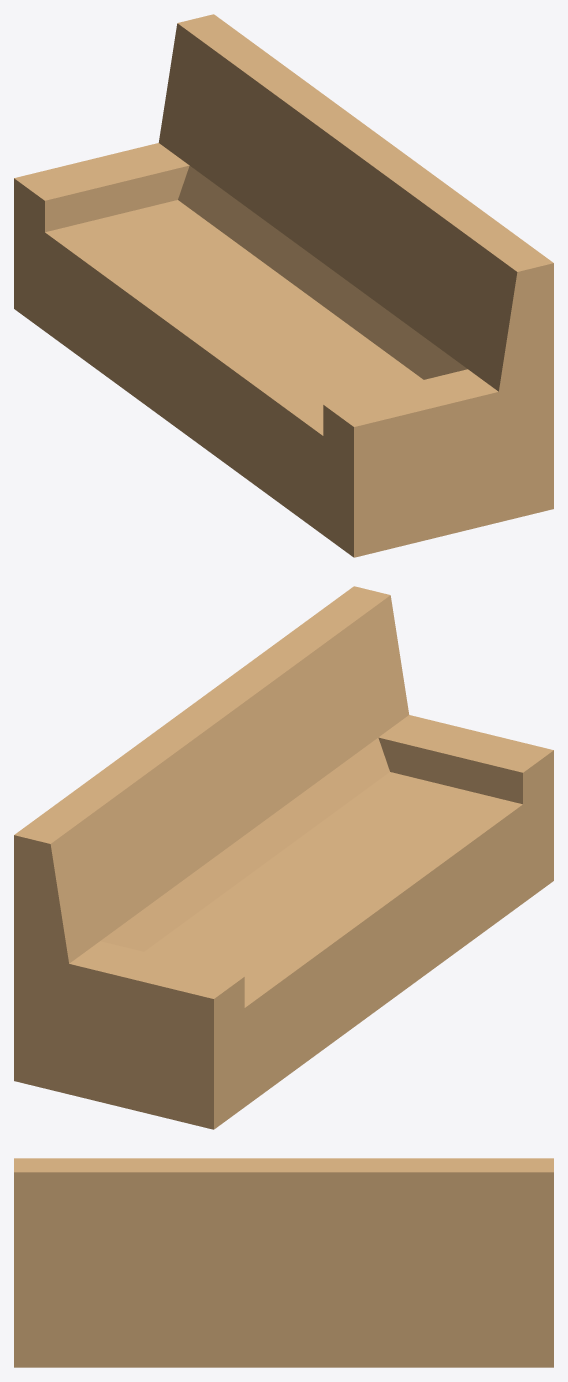
The model's file is couch_01_mockup.fbx.
3 views of the same model, one above another, from view 1: azimuth 30°, elevation 25°; view 2: azimuth 150°, elevation 25°; view 3: azimuth 270°, elevation 25° (orthographic). The views are drawn at different scales.
Parts seen in each view (by area): view 1: Plane; view 2: Plane; view 3: Plane.
Part boxes in pixels (box(x1,y1,x2,y2)): Plane: box(14, 14, 553, 557); Plane: box(14, 586, 553, 1129); Plane: box(14, 1158, 553, 1367).
Size of the model in its own units: 0.7237 by 2.13 by 0.8508.
